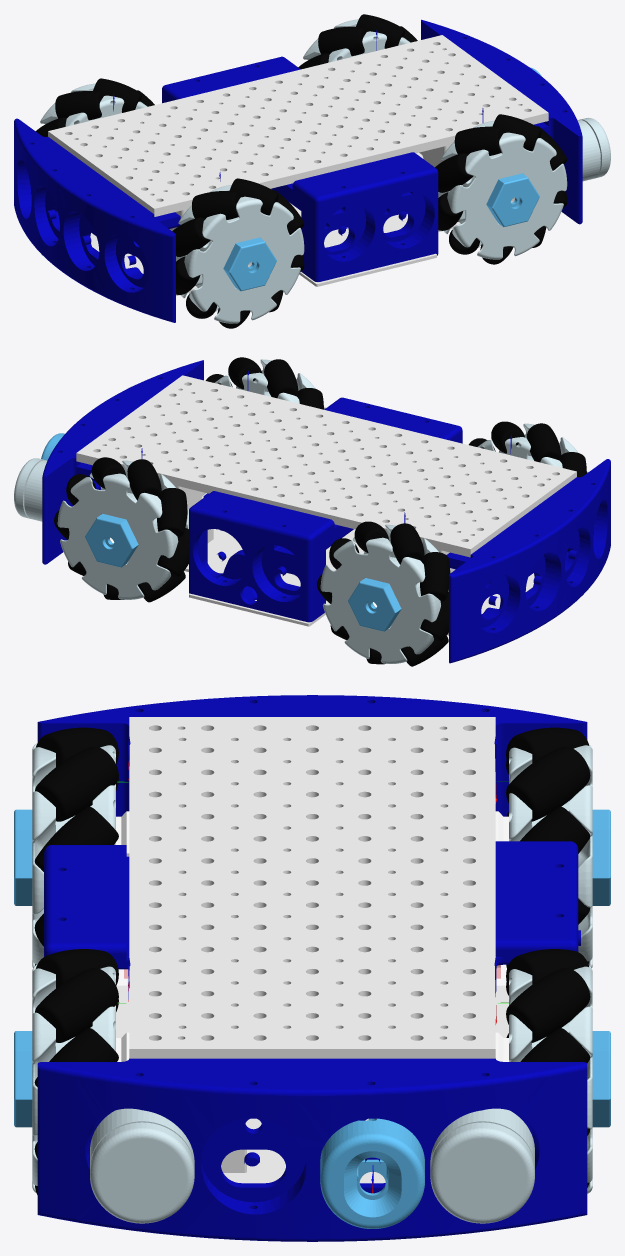
The model's file is roboteil.glb.
The picture shows the model from 3 angles, top to bottom: view 1: azimuth 30°, elevation 25°; view 2: azimuth 150°, elevation 25°; view 3: azimuth 270°, elevation 25°; orthographic projection. The views are drawn at different scales.
Parts seen in each view (by area): view 1: CenterPlate Alu, sbFront (×2), rimm-outerr (×2), sbCenter, Wheel-Hub-Cup (×2), Roller_copy5 (×4), Roller_copy6 (×4), rimm-inner (×4), sb_center_cont, Roller_copy7 (×2), Basplate Pexi, Roller_copy8 (×2) (+2 smaller); view 2: CenterPlate Alu, sbFront (×2), rimm-outerr (×2), sb_center_cont, Wheel-Hub-Cup (×2), Roller_copy5 (×4), Roller_copy6 (×4), Basplate Pexi, Roller_copy4 (×2), sbCenter, rimm-inner (×3), Roller_copy3 (×2) (+4 smaller); view 3: CenterPlate Alu, sbFront (×2), Top (×3), Roller_copy6 (×4), Roller_copy5 (×4), rimm-outerr (×4), sb_center_cont, sbCenter, Wheel-Hub-Cup (×4), Base (×3), rimm-inner (×4), Roller_copy4 (×2) (+2 smaller).
Part boxes in pixels (box(x1,y1,x2,y2)): CenterPlate Alu: box(48, 35, 548, 216); sbFront (×2): box(14, 19, 582, 322); rimm-outerr (×2): box(184, 132, 567, 323); sbCenter: box(271, 152, 438, 281); Wheel-Hub-Cup (×2): box(223, 173, 539, 291); Roller_copy5 (×4): box(55, 26, 541, 215); Roller_copy6 (×4): box(93, 14, 503, 219); rimm-inner (×4): box(65, 31, 501, 311); sb_center_cont: box(162, 56, 300, 103); Roller_copy7 (×2): box(172, 153, 473, 256); Basplate Pexi: box(90, 152, 460, 295); Roller_copy8 (×2): box(176, 192, 463, 294); CenterPlate Alu: box(76, 375, 576, 557); sbFront (×2): box(42, 360, 610, 663); rimm-outerr (×2): box(57, 473, 440, 663); sb_center_cont: box(189, 491, 353, 622); Wheel-Hub-Cup (×2): box(85, 513, 401, 631); Roller_copy5 (×4): box(127, 357, 524, 564); Roller_copy6 (×4): box(91, 359, 561, 552); Basplate Pexi: box(184, 493, 534, 635); Roller_copy4 (×2): box(157, 488, 450, 601); sbCenter: box(324, 397, 462, 443); rimm-inner (×3): box(89, 372, 562, 531); Roller_copy3 (×2): box(157, 528, 448, 641); CenterPlate Alu: box(129, 717, 495, 1058); sbFront (×2): box(37, 695, 587, 1241); Top (×3): box(90, 1122, 534, 1228); Roller_copy6 (×4): box(36, 727, 590, 1042); Roller_copy5 (×4): box(35, 727, 589, 1042); rimm-outerr (×4): box(32, 743, 592, 1193); sb_center_cont: box(495, 841, 578, 965); sbCenter: box(44, 845, 129, 969); Wheel-Hub-Cup (×4): box(14, 809, 610, 1127); Base (×3): box(90, 1108, 534, 1199); rimm-inner (×4): box(66, 745, 546, 1061); Roller_copy4 (×2): box(34, 806, 118, 1086).
Bounding box in the file's own units: 375 × 102 × 228.
